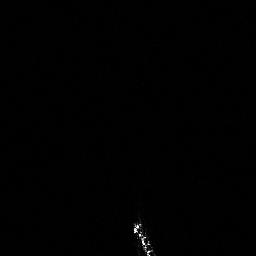ship: (127, 218, 159, 256)
